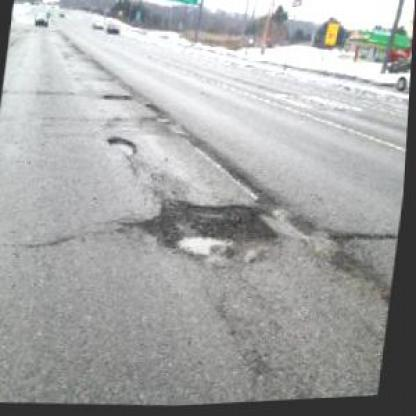pothole: (140, 192, 290, 268), (103, 133, 140, 162), (101, 92, 135, 102)
